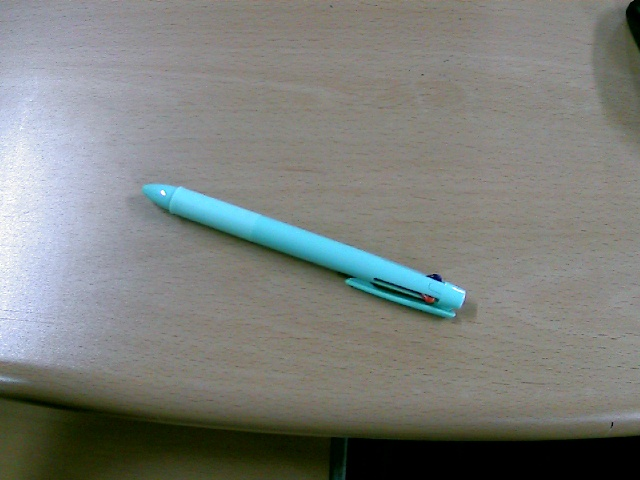pen: (143, 181, 468, 318)
